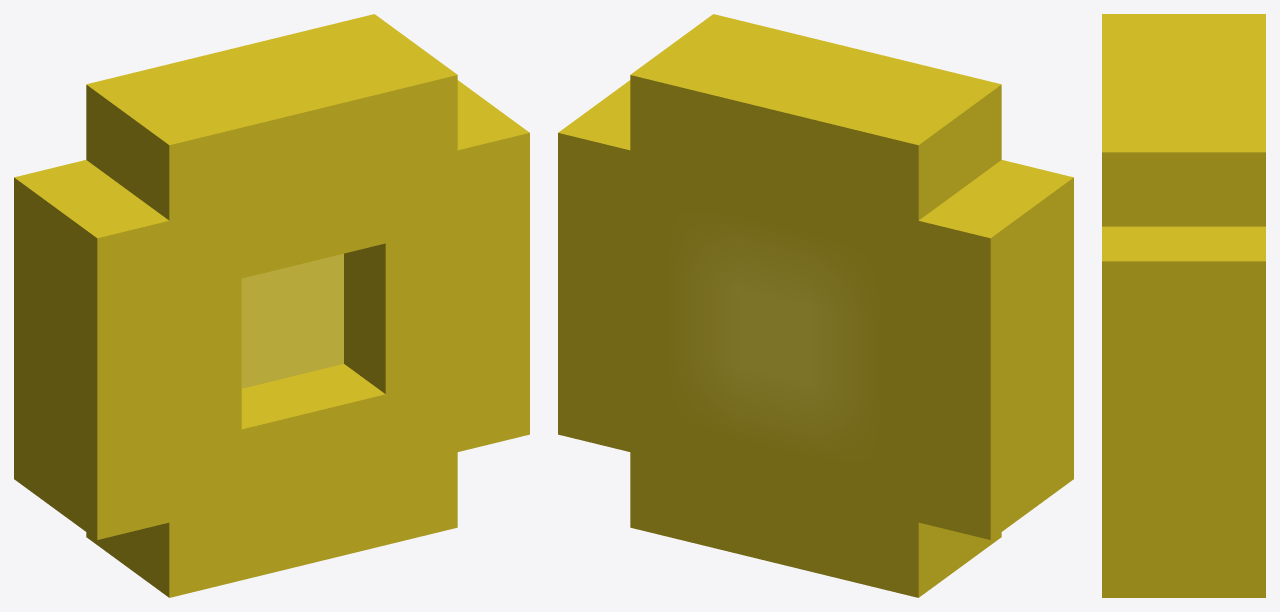
Rendered from Coin.fbx.
3 views of the same model, side by side, from view 1: azimuth 30°, elevation 25°; view 2: azimuth 150°, elevation 25°; view 3: azimuth 270°, elevation 25° (orthographic).
Parts seen in each view (by area): view 1: Coin; view 2: Coin; view 3: Coin.
Part boxes in pixels (bbox=[...]): Coin: bbox=[14, 14, 529, 597]; Coin: bbox=[558, 14, 1073, 597]; Coin: bbox=[1102, 14, 1265, 597].
Bounding box in the file's own units: 6 × 6 × 2.
